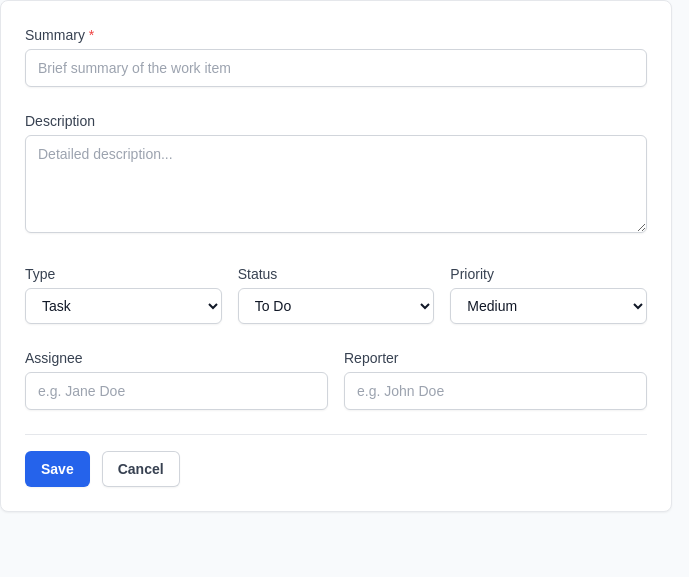
Test: WorkItemForm › displays field errors and preserved values when action returns errors
Click the button "Save".
click(57, 469)  # box [25,451,90,487]
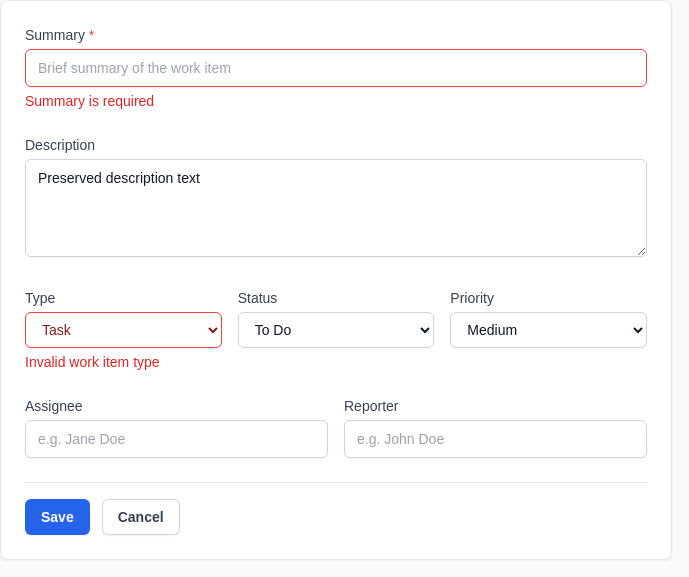
Expected: the text "Summary is required" is shown, [25,93,154,109]
Expected: the text "Invalid work item type" is shown, [25,354,160,370]
Expected: the text box labelled "Description" holds "Preserved description text", [25,159,647,257]
